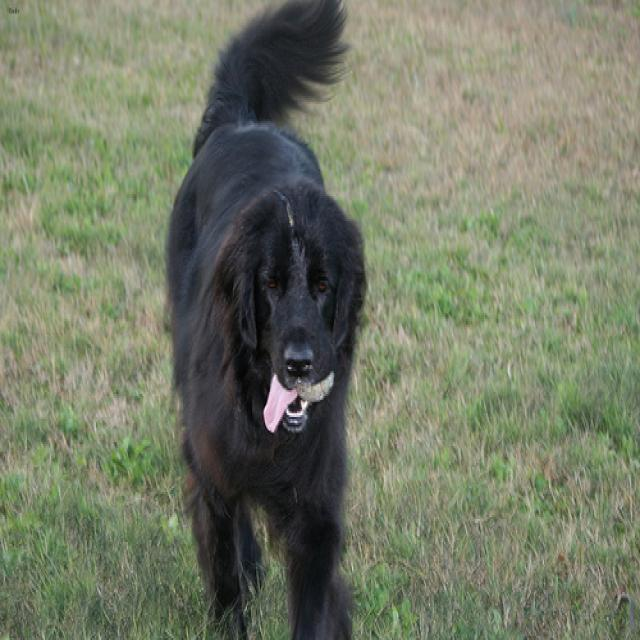dog-newfoundland: (156, 2, 371, 636)
